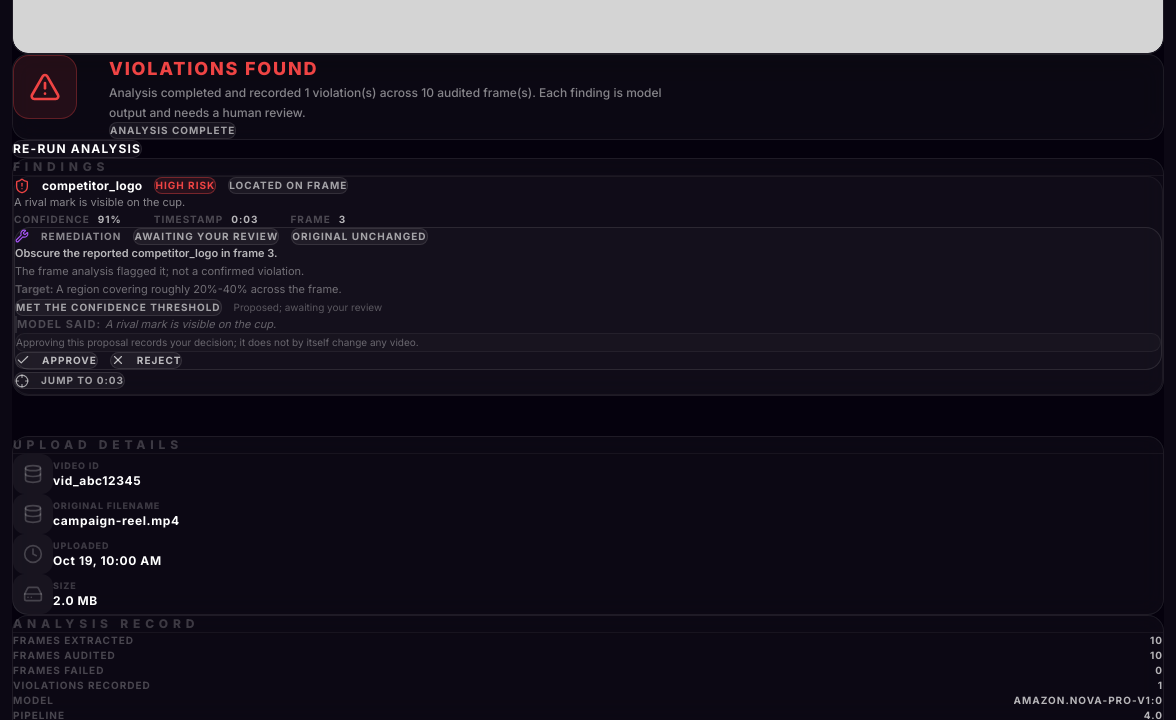
Test case: remediation on a completed audit › rejects a proposal
(page scrolled)
Click the button with test id "reject-rem_abc123abc123".
click(146, 360)  # box [110,352,182,369]
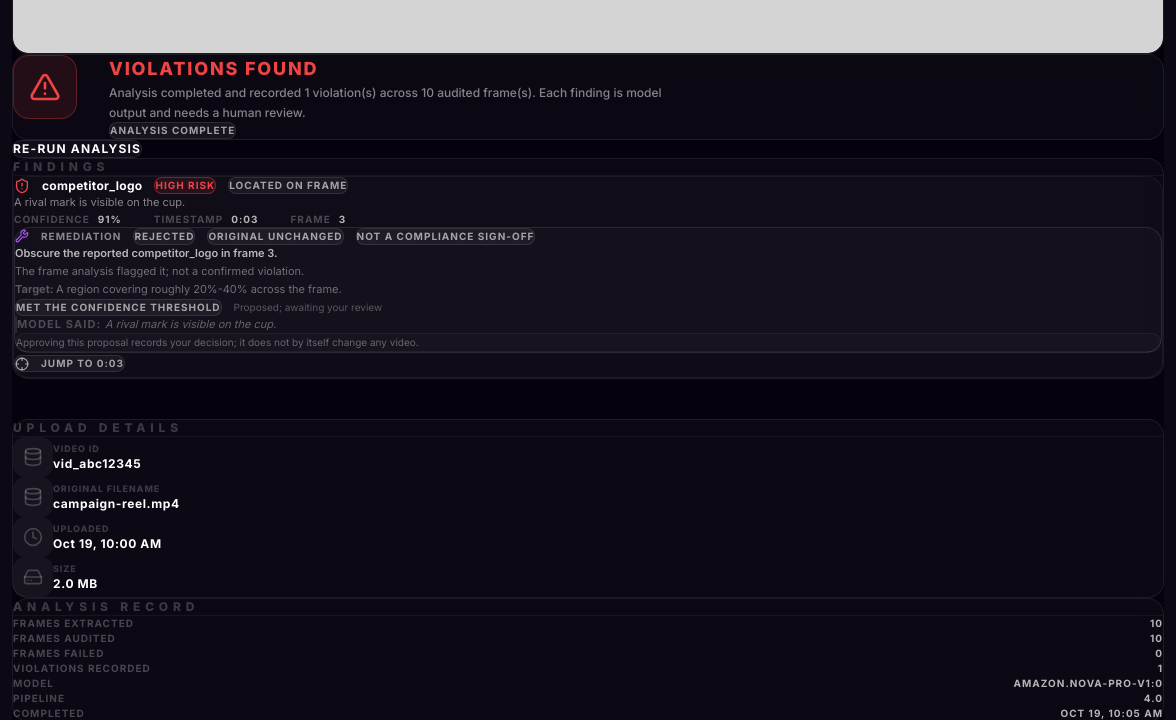
Check: the text "Rejected" is shown, box [134,228,195,245]
